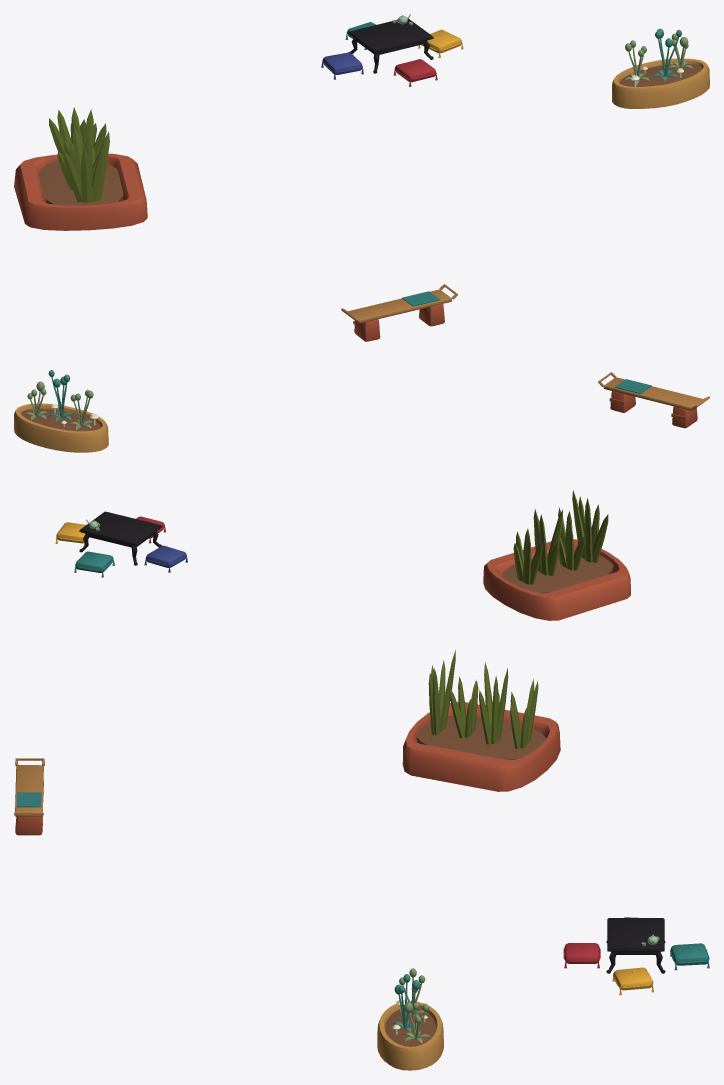
The model's file is nomad_shrine_plaza_decor.fbx.
The picture shows the model from 3 angles, top to bottom: view 1: azimuth 30°, elevation 25°; view 2: azimuth 150°, elevation 25°; view 3: azimuth 270°, elevation 25°; orthographic projection. The views are drawn at different scales.
Visible parts, largest first — view 1: C__PlanterBed_Spikes__01, C__PlanterBed_Bulbs__02, C__GameTable__01, C__Bench_Carved__02; view 2: C__PlanterBed_Spikes__01, C__PlanterBed_Bulbs__02, C__GameTable__01, C__Bench_Carved__02; view 3: C__PlanterBed_Spikes__01, C__GameTable__01, C__PlanterBed_Bulbs__02, C__Bench_Carved__02.
Boxes of the visible parts, left/top/right/bottom form: C__PlanterBed_Spikes__01: left=14, top=107, right=147, bottom=230; C__PlanterBed_Bulbs__02: left=612, top=28, right=709, bottom=108; C__GameTable__01: left=321, top=14, right=463, bottom=86; C__Bench_Carved__02: left=341, top=284, right=457, bottom=341; C__PlanterBed_Spikes__01: left=483, top=490, right=630, bottom=620; C__PlanterBed_Bulbs__02: left=14, top=370, right=108, bottom=452; C__GameTable__01: left=55, top=511, right=187, bottom=577; C__Bench_Carved__02: left=598, top=372, right=709, bottom=428; C__PlanterBed_Spikes__01: left=402, top=650, right=560, bottom=791; C__GameTable__01: left=563, top=917, right=709, bottom=995; C__PlanterBed_Bulbs__02: left=377, top=968, right=443, bottom=1070; C__Bench_Carved__02: left=14, top=758, right=44, bottom=835.
Size of the model in its own units: 2166 by 293 by 1836.
